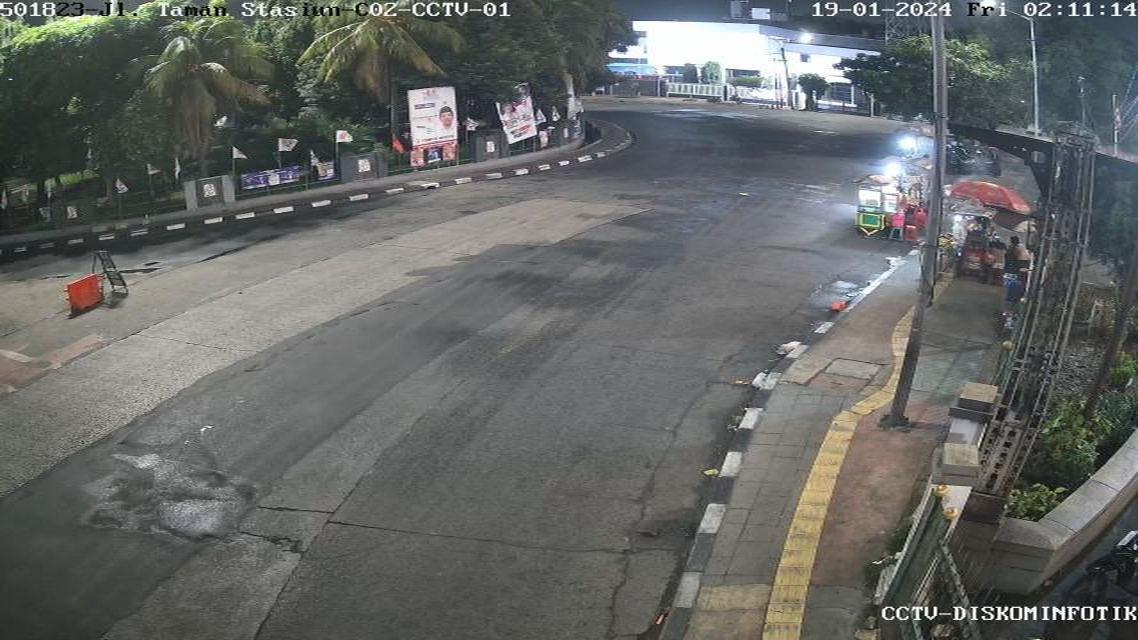Gerobak: (953, 202, 996, 280), (850, 172, 902, 236)
